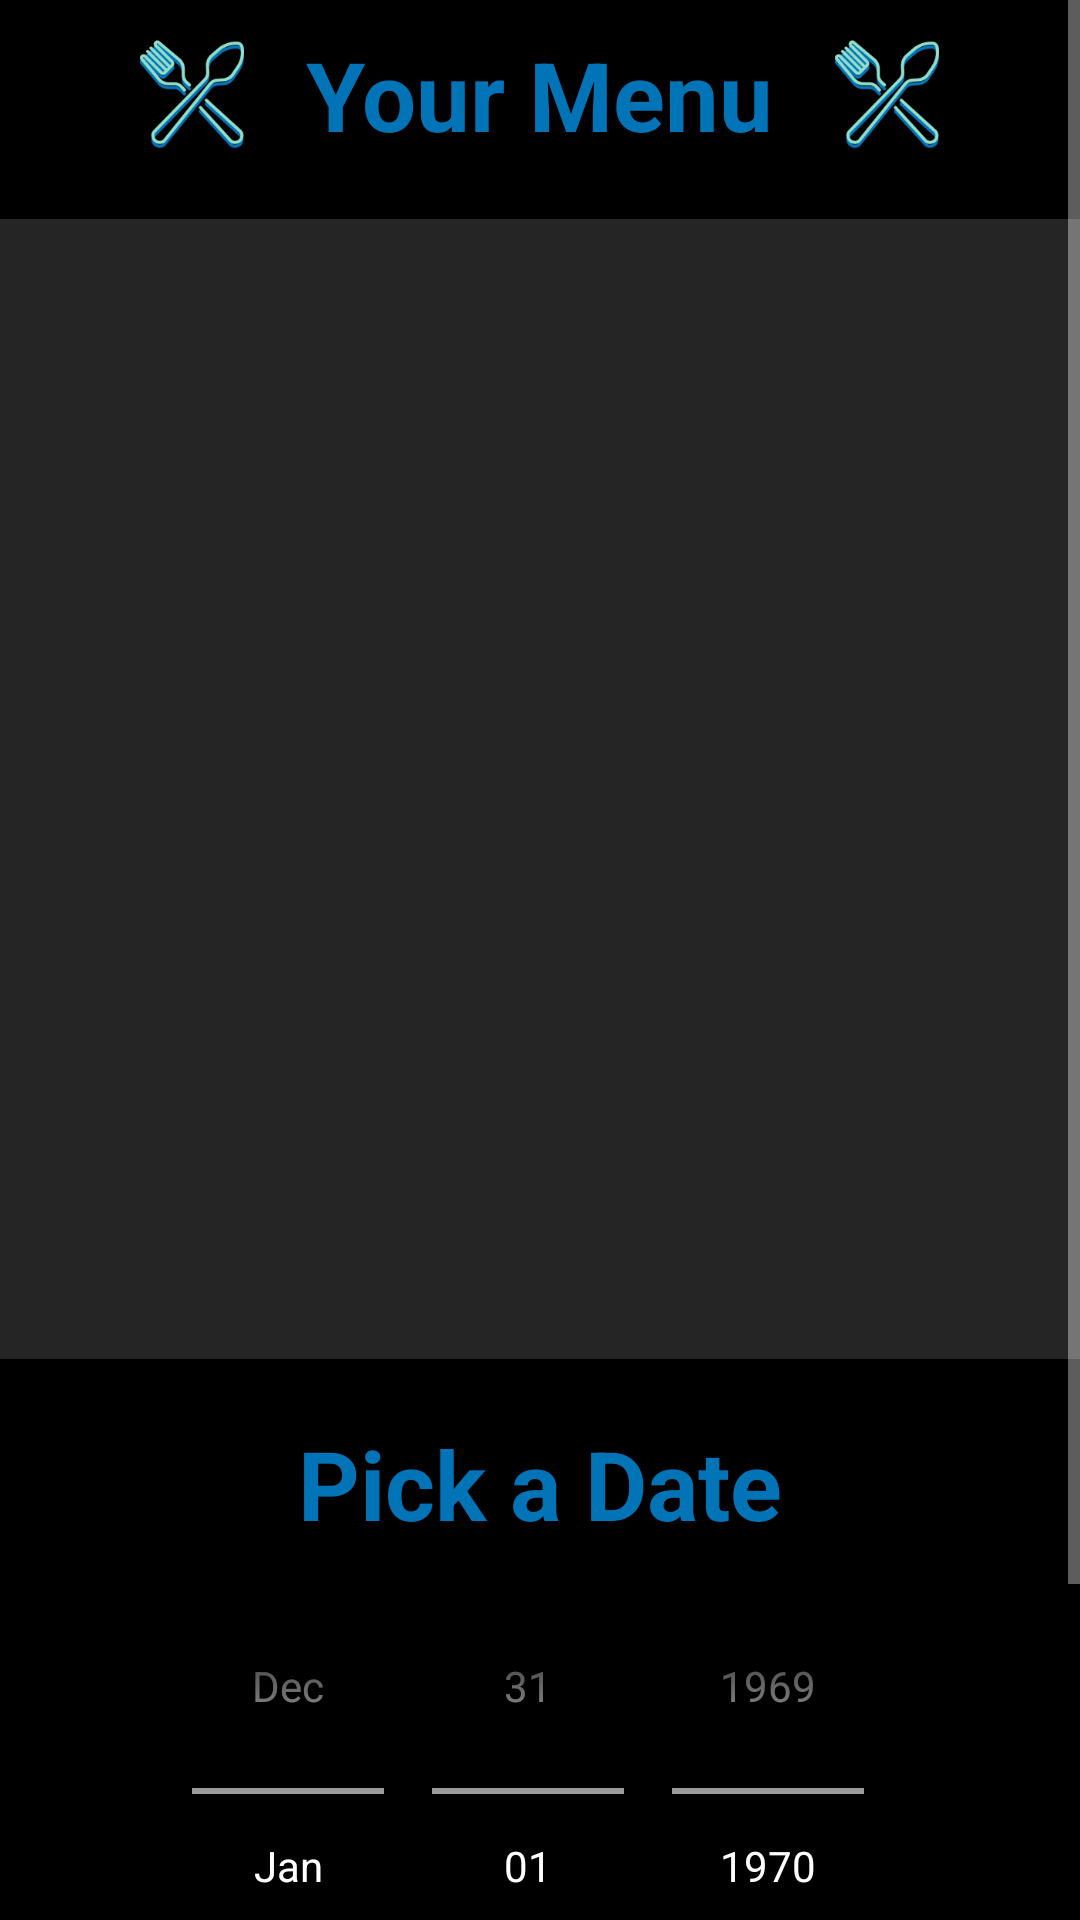

Screen size 1080*1920. Icon name, then its box in pixels as (x1,y1,x2,y2):
spork: (140,40,244,148), (835,40,939,148)
